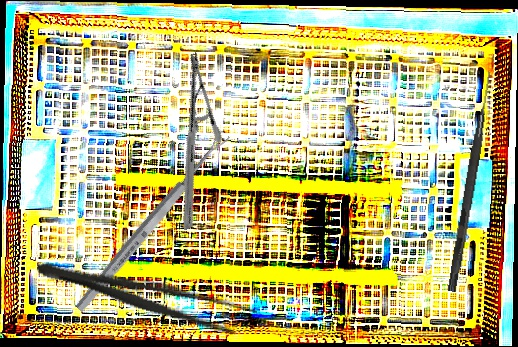Dressing Forceps: (32, 250, 260, 340)
Hook Surgical: (447, 70, 494, 293)
Needle Holder: (115, 51, 267, 231)
Surgical Spoon: (73, 128, 232, 315)
